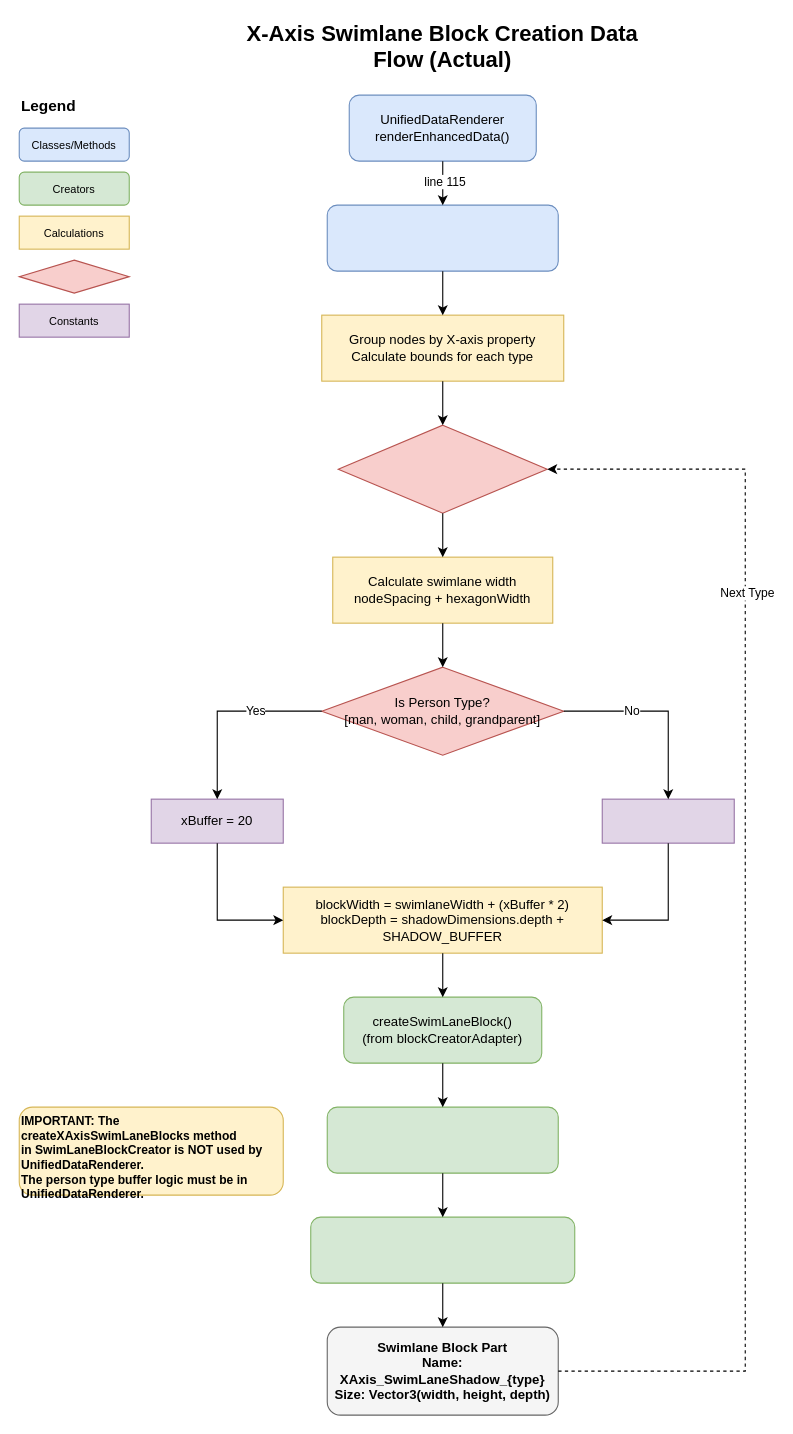
Some shapes in this 793 by 1434 pixel diagram are drawn without their labels. The centre of each missing label's shape, as x and y in pixels:
BlockCreatorAdapter createSwimLaneBlockAdapter(): the point at 442,1139
Decisions: the point at 73,276
For each type in nodesByType: the point at 442,468
SwimLaneBlockCreator createSwimLaneBlock() (NOT createXAxisSwimLaneBlocks): the point at 442,1249
UnifiedDataRenderer createSwimLaneBlocks() (private method): the point at 442,237
xBuffer = 0: the point at 667,820
